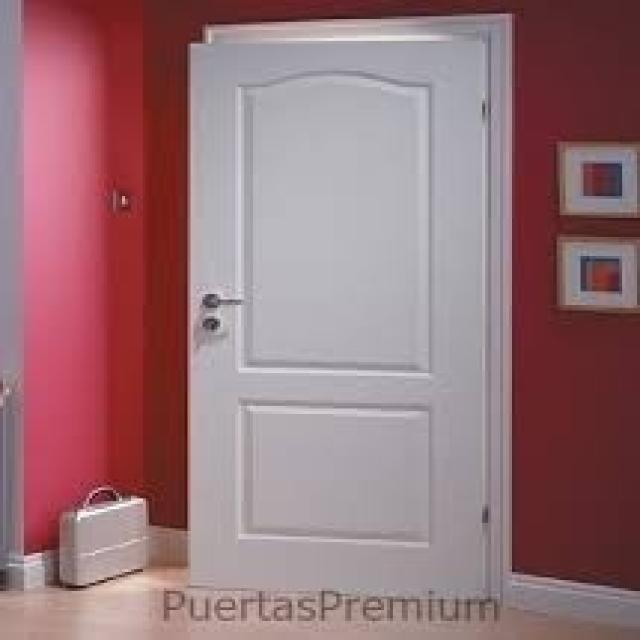door: (186, 23, 499, 603)
